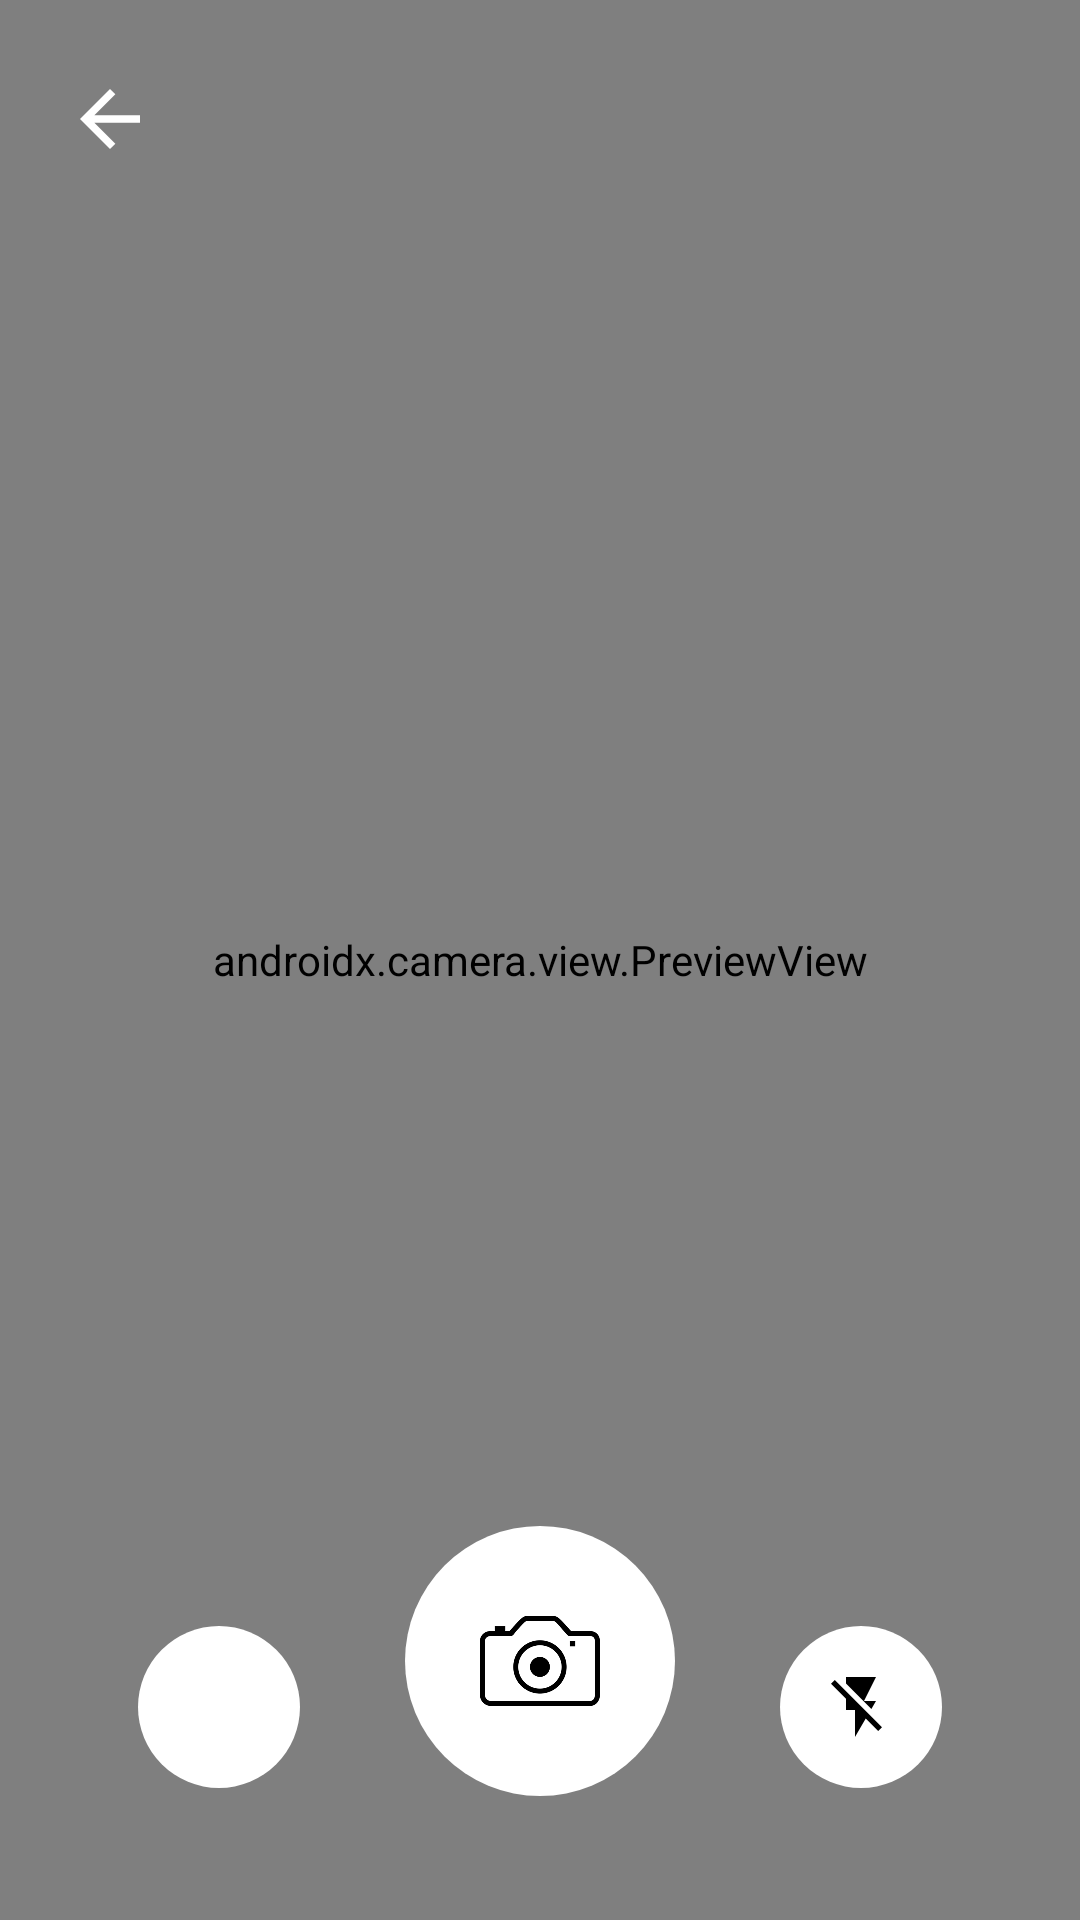

Icons on this 1080×1920 Android screen, each with its box as (x1, y1, x2, y2):
Back: (80, 89, 140, 149)
Capture: (405, 1526, 675, 1796)
Flash Toggle: (780, 1626, 942, 1788)
